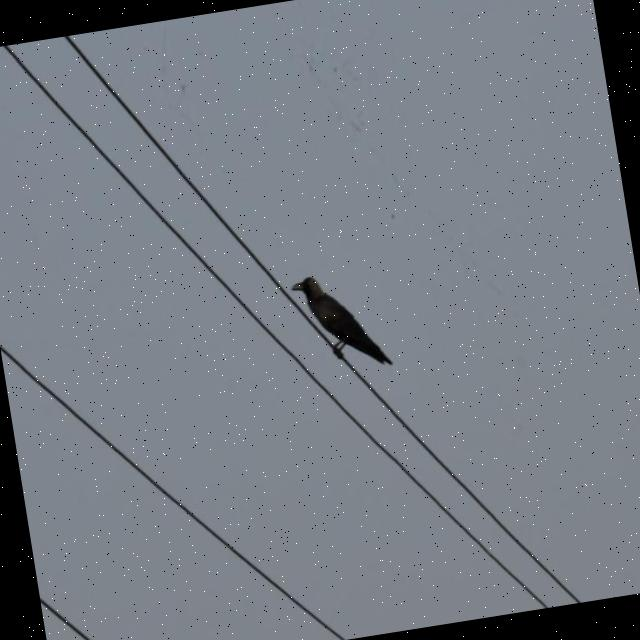crow: (285, 262, 402, 393)
